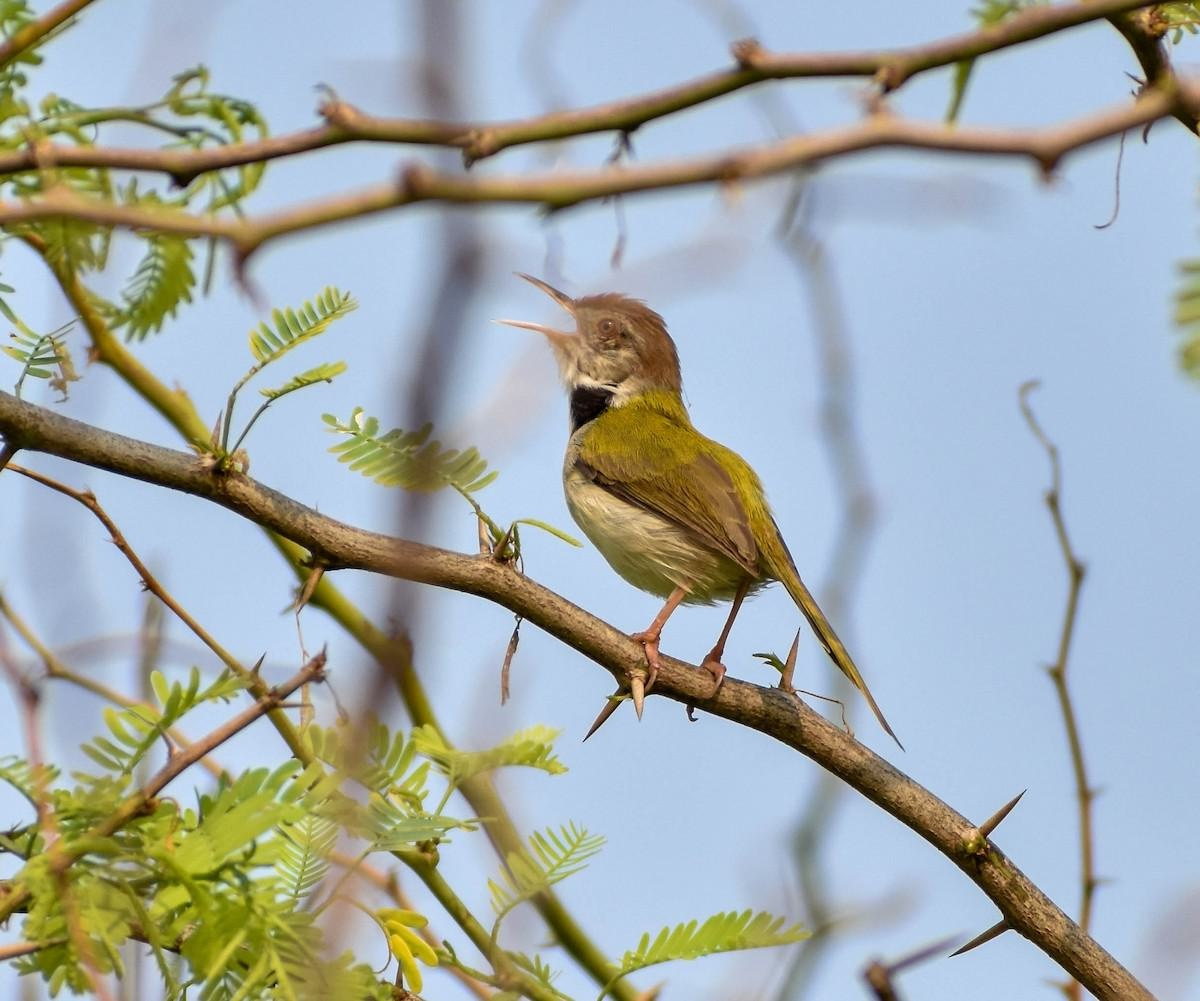tailorbird: (471, 255, 954, 785)
